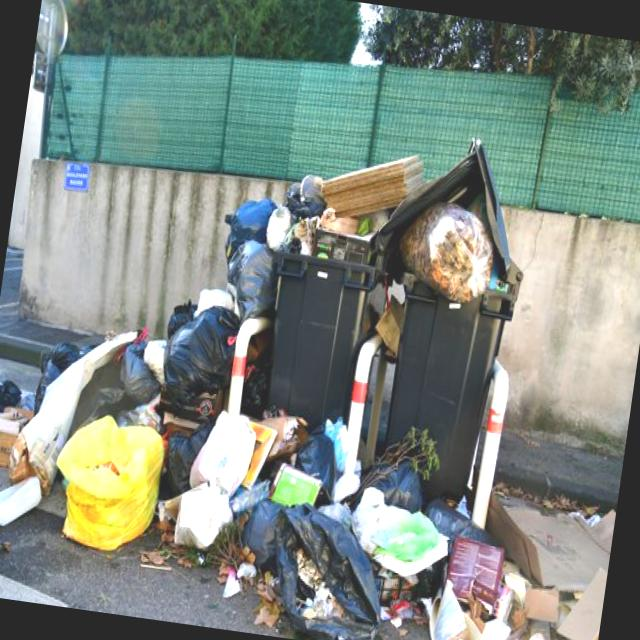garbage: (45, 82, 640, 640)
